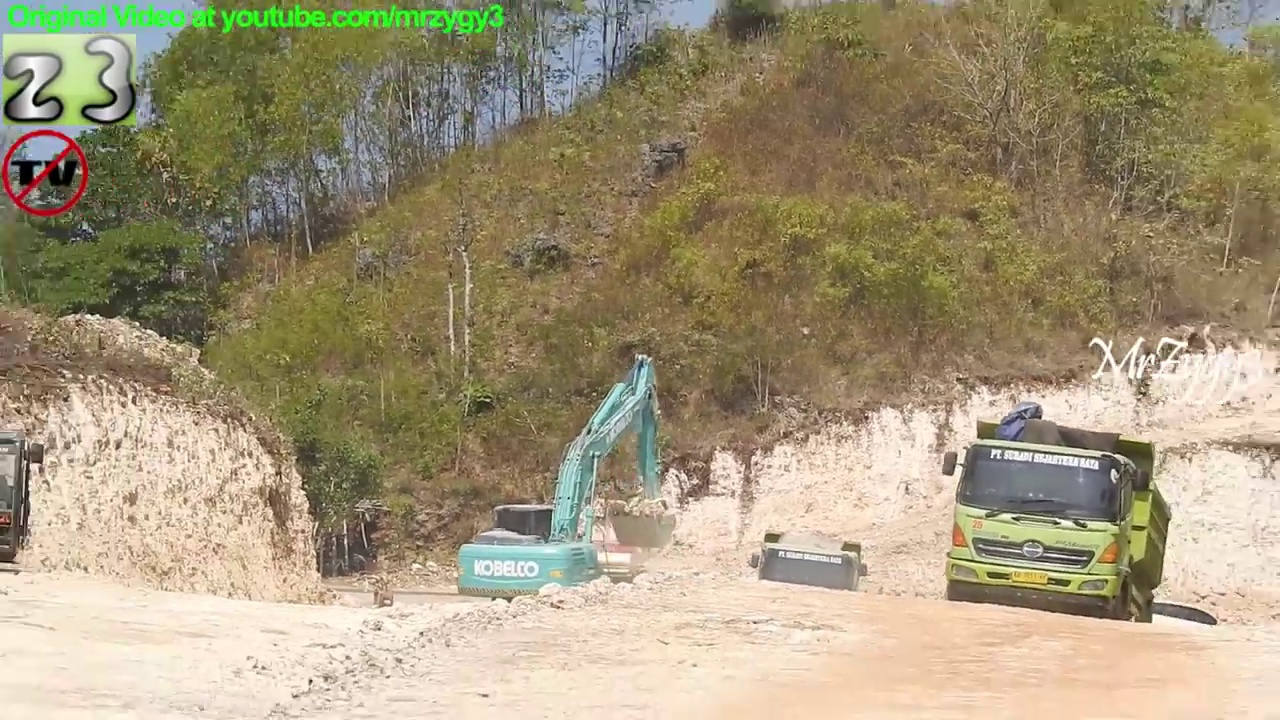excavator: (450, 348, 684, 626), (1, 433, 48, 583)
truck: (934, 410, 1177, 650), (746, 527, 872, 641), (469, 533, 647, 612)
